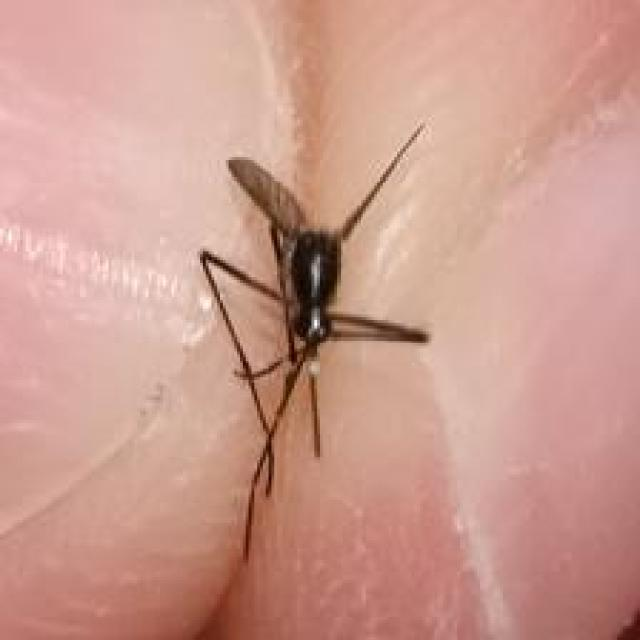Aedes albopictus: (196, 120, 433, 563)
